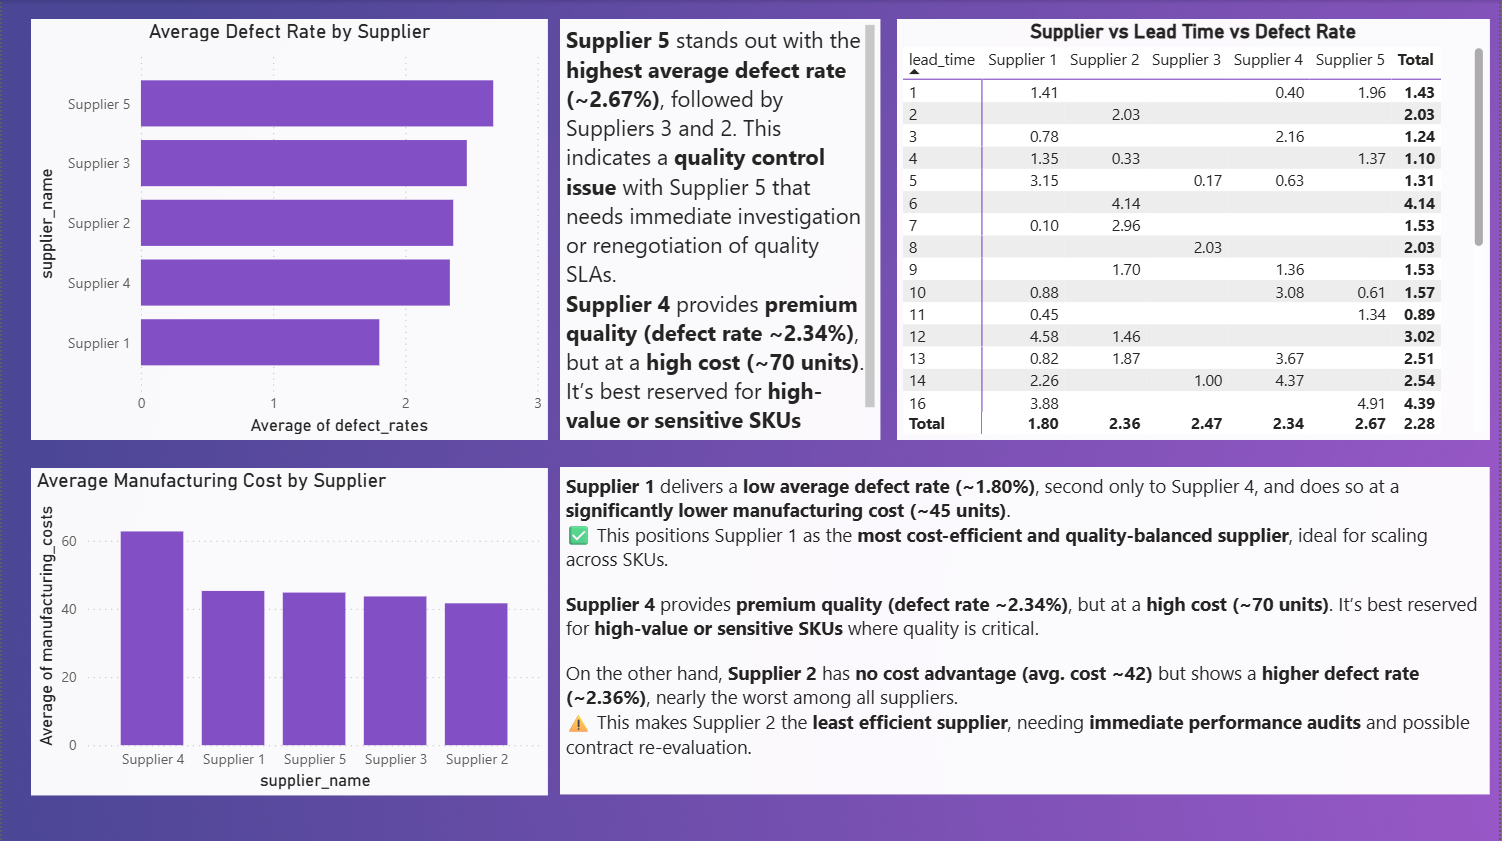

The dashboard page shown, as its layout file describes it:
{"tool":"powerbi","page":{"name":"Supplier Intelligence","canvas":[1280,720],"ordinal":2},"visuals":[{"type":"clusteredBarChart","title":"Average Defect Rate by Supplier","fields":{"Category":["cleaned_supply_chain_data.supplier_name"],"Y":["Avg(cleaned_supply_chain_data.defect_rates)"]},"box":[24.6,16.4,442.1,360],"z":0},{"type":"clusteredColumnChart","title":"Average Manufacturing Cost by Supplier","fields":{"Category":["cleaned_supply_chain_data.supplier_name"],"Y":["Avg(cleaned_supply_chain_data.manufacturing_costs)"]},"box":[24.6,400,442.1,280],"z":1000},{"type":"pivotTable","title":"Supplier vs Lead Time vs Defect Rate","fields":{"Columns":["cleaned_supply_chain_data.supplier_name"],"Values":["Avg(cleaned_supply_chain_data.defect_rates)"],"Rows":["cleaned_supply_chain_data.lead_time"]},"box":[765.3,16.3,506.6,360.3],"z":2000},{"type":"textbox","box":[476.8,399.6,795.1,280.4],"z":3000},{"type":"textbox","box":[476.8,16.3,273.6,360.3],"z":4000}]}

Visuals, with their boxes in screenshot pixels (x1, y1, x2, y2), scaled from the page's 1280x720 canvas onto the 1502x841 screenshot:
"Average Defect Rate by Supplier" clusteredBarChart: 29, 19, 548, 440
"Average Manufacturing Cost by Supplier" clusteredColumnChart: 29, 467, 548, 794
"Supplier vs Lead Time vs Defect Rate" pivotTable: 898, 19, 1492, 440
textbox: 559, 467, 1492, 794
textbox: 559, 19, 881, 440
